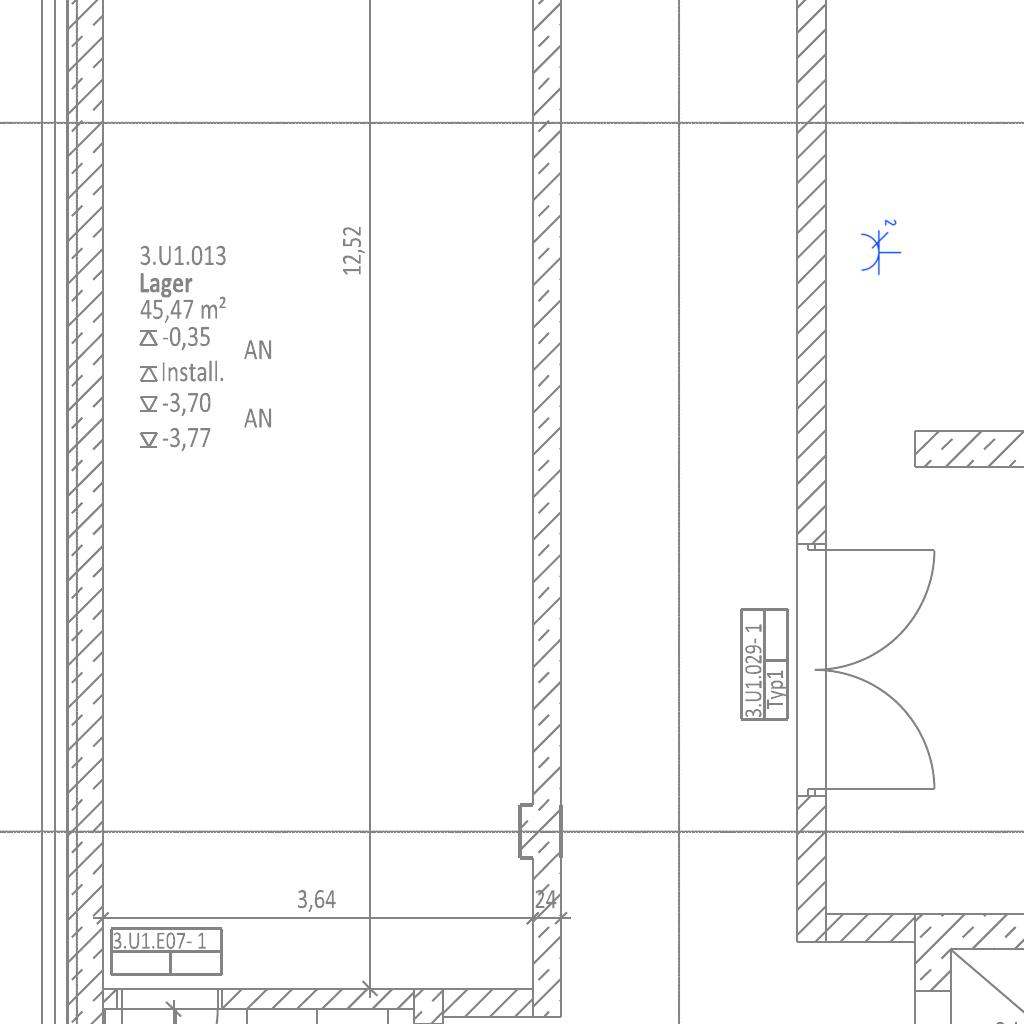Schukosteckdose_mehrfach: (858, 216, 902, 276)
